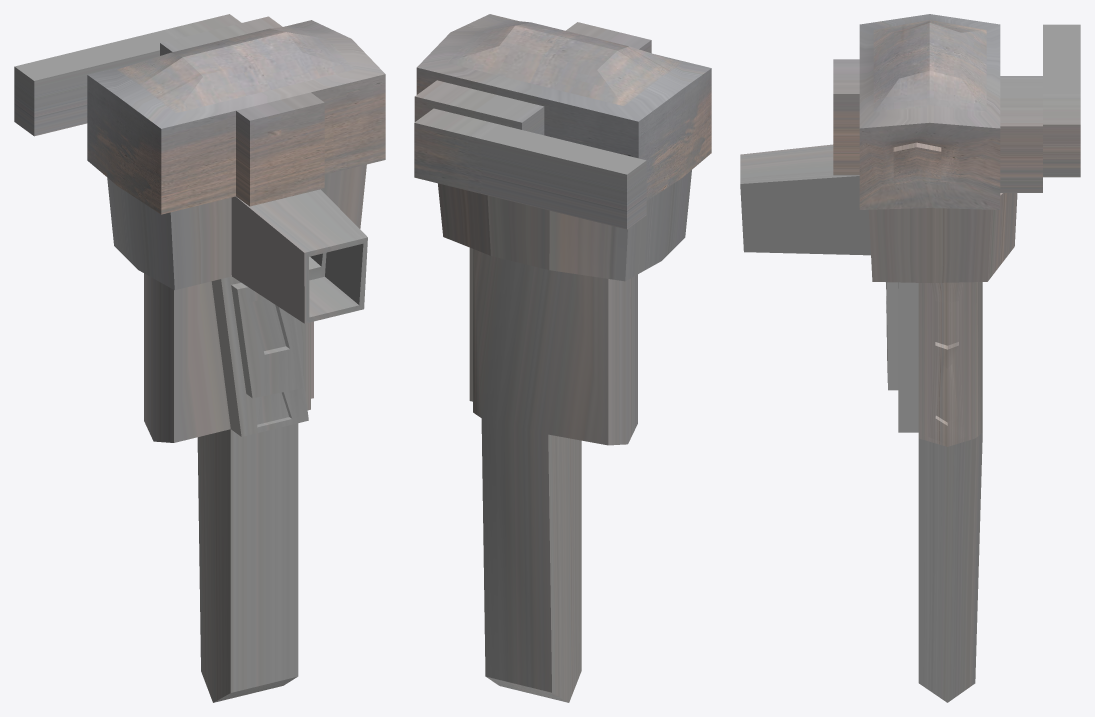
File: spaceStation.obj
3 views of the same model, side by side, from view 1: azimuth 30°, elevation 25°; view 2: azimuth 150°, elevation 25°; view 3: azimuth 270°, elevation 25° (orthographic). The views are drawn at different scales.
Parts seen in each view (by area): view 1: Cube; view 2: Cube; view 3: Cube.
Part boxes in pixels (x1,y1,x2,y2): Cube: (14,14,385,702); Cube: (414,14,711,702); Cube: (740,14,1080,702).
Size of the model in its own units: 14.18 by 33.71 by 16.52.
Materials: 1 (1 with a texture image).
